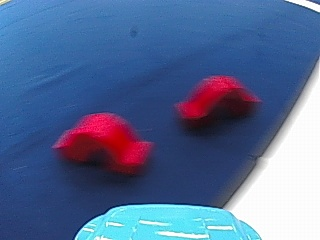bridge: (51, 106, 160, 177), (169, 69, 263, 131)
